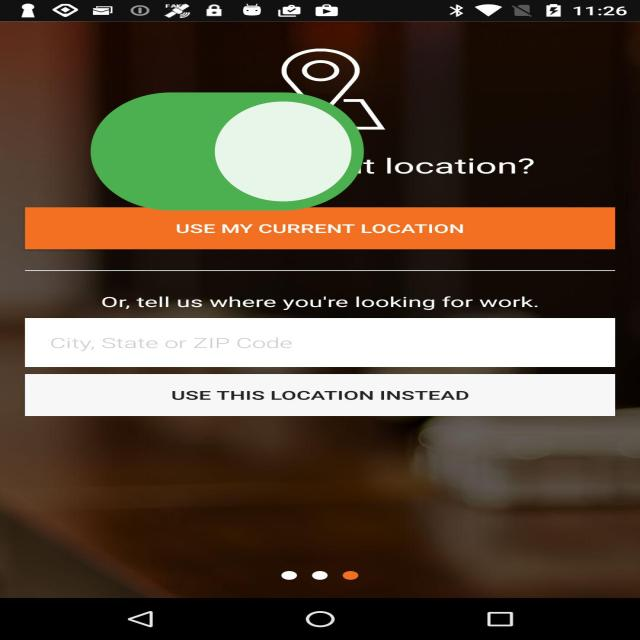social proof: (78, 47, 376, 265)
